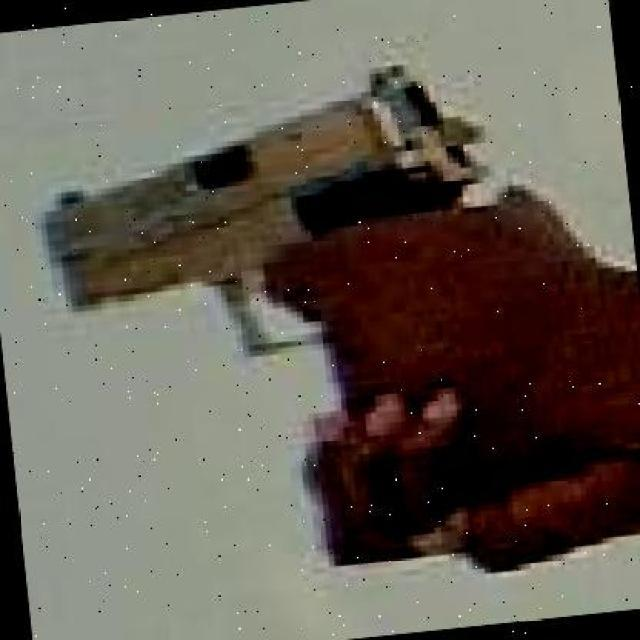rifle: (262, 186, 638, 569), (137, 56, 526, 245), (37, 170, 309, 322), (194, 250, 340, 380)
